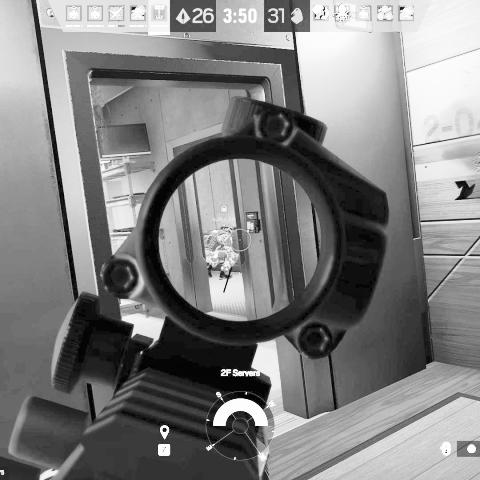Character: (202, 222, 242, 282)
Friend_label: (212, 204, 236, 221)
Head: (220, 222, 235, 233)
